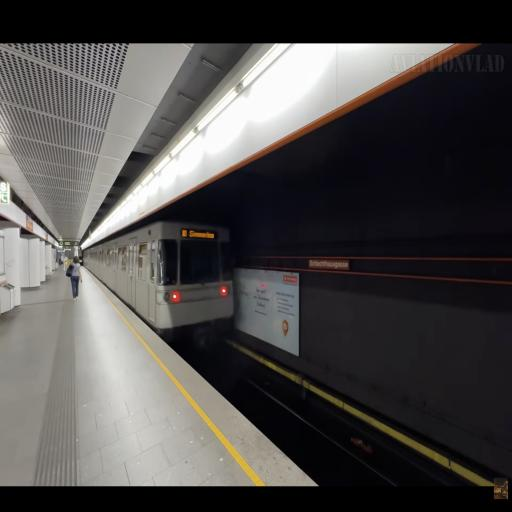Silberpfeil: (83, 218, 236, 328)
